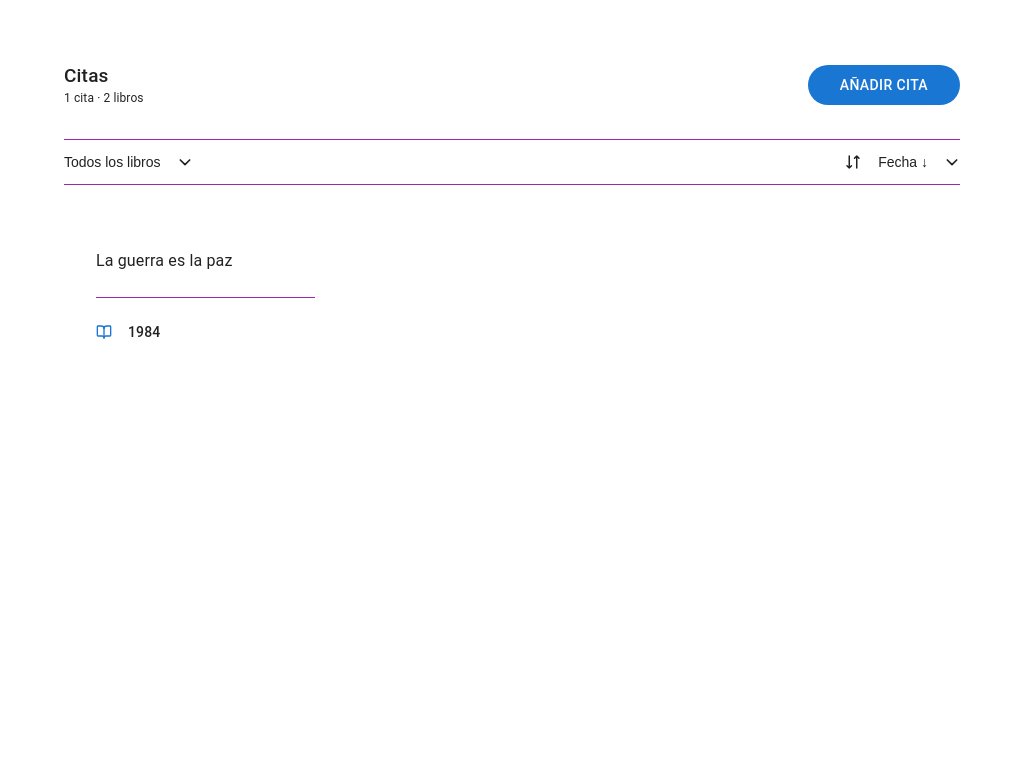
Test: Given the quotes page › When the user orders the quotes › Then the chosen order goes to the URL and to the request
The image size is (1024, 768).
Click the button with aria-label "Ordenar por: Fecha: más recientes primero": (902, 162) [828,140,976,184]
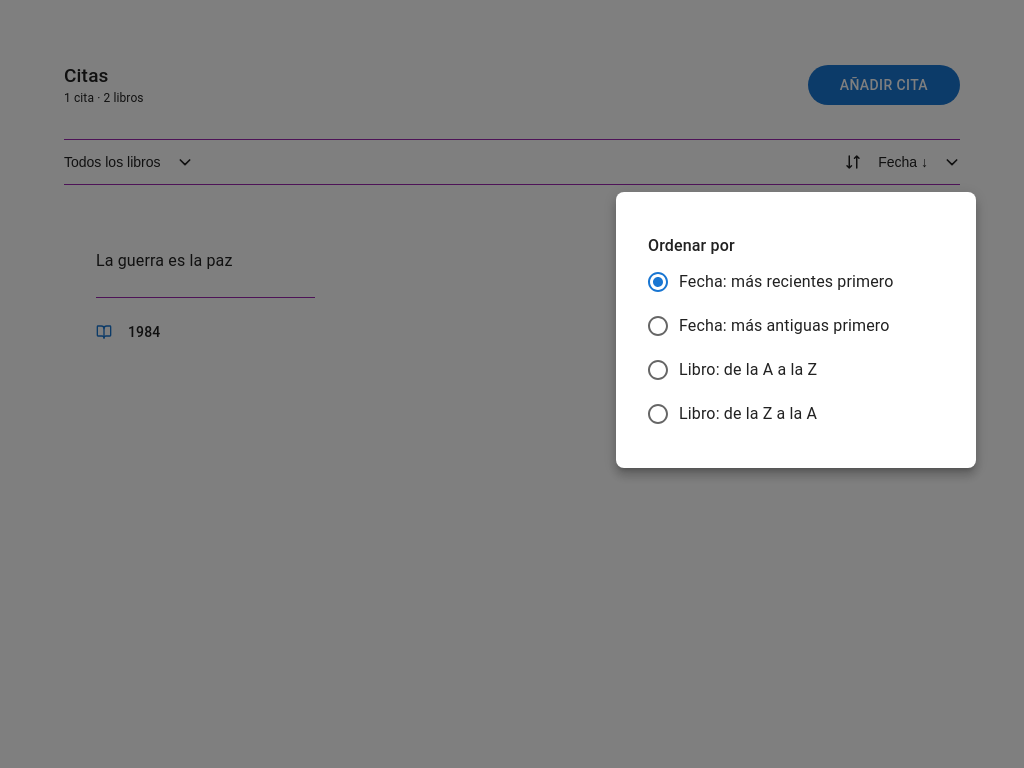
Click the radio button labelled "Fecha: más antiguas primero": (768, 326) [646,314,890,338]
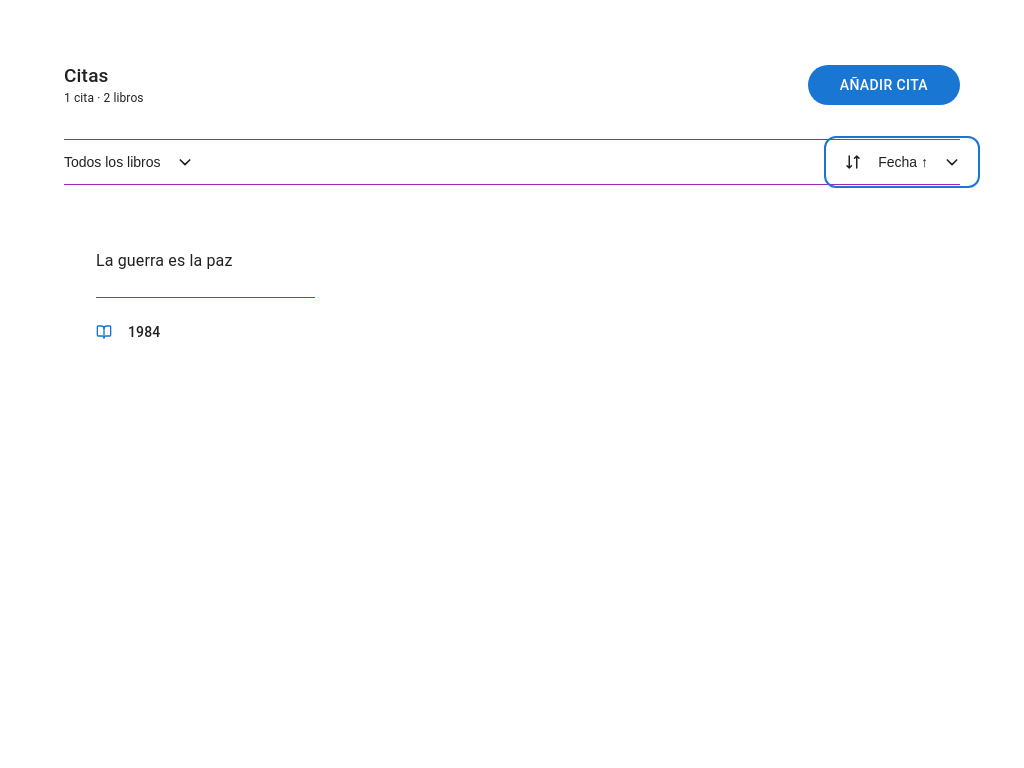
Check: the button with aria-label "Ordenar por: Fecha: más antiguas primero" is shown, box [828,140,976,184]
